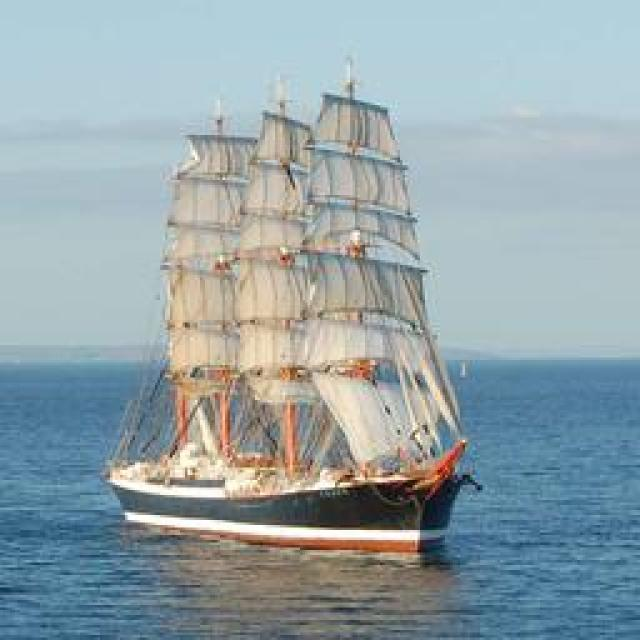Ship: (109, 62, 474, 552)
